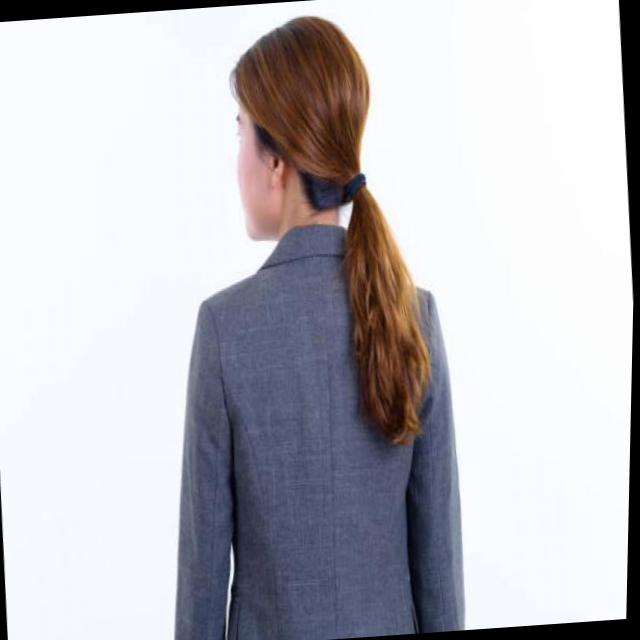no helmet: (196, 0, 460, 453)
